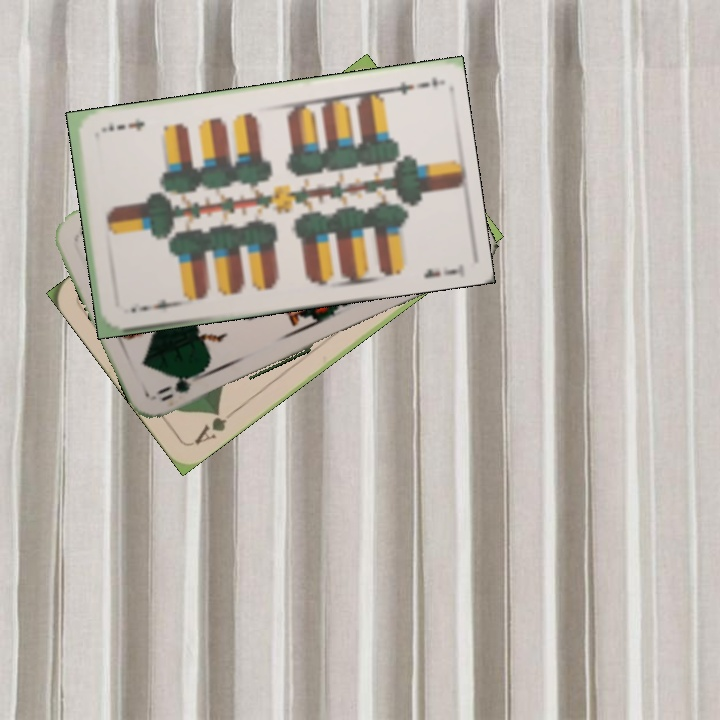E7: (381, 77, 432, 98), (126, 295, 179, 315)
GA: (190, 405, 239, 447)
GO: (153, 366, 209, 405)
